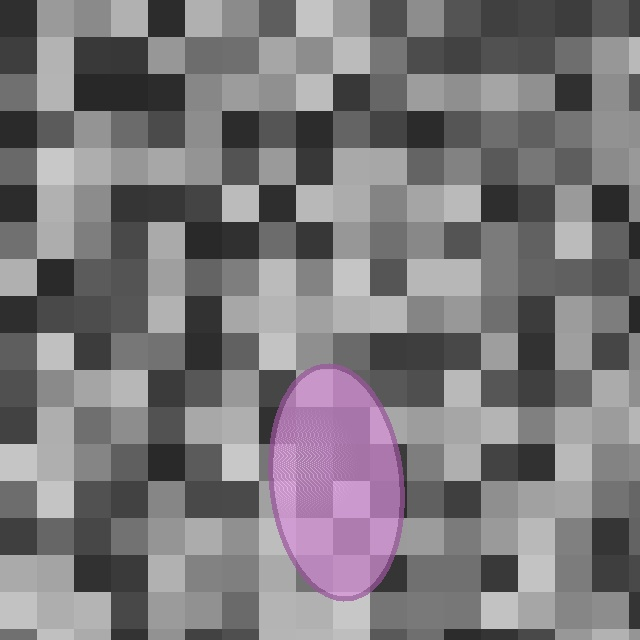lens: (270, 366, 402, 598)
